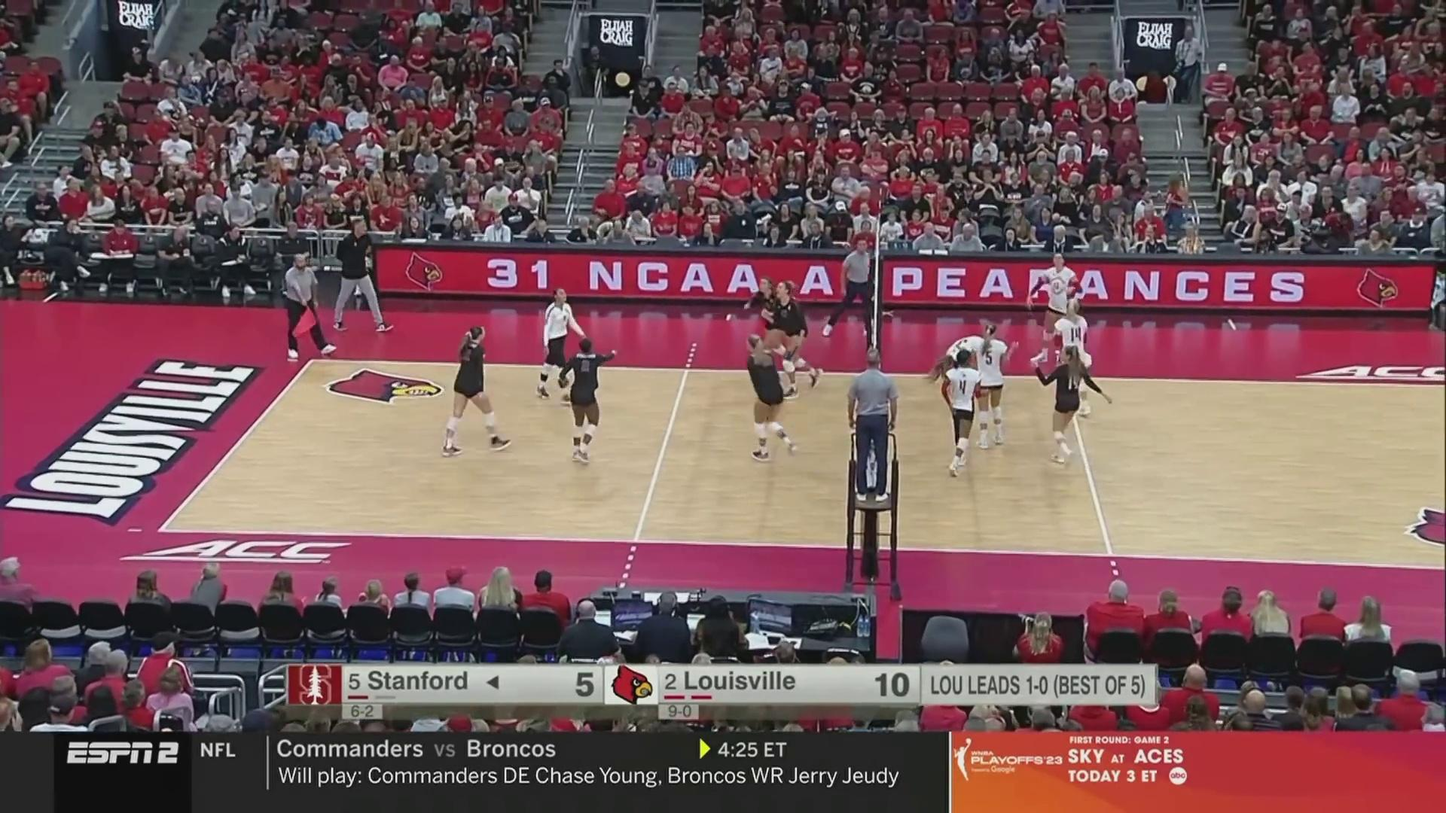player: (1036, 334, 1104, 469), (444, 327, 510, 456), (537, 285, 599, 410), (562, 331, 617, 464), (748, 325, 796, 463), (934, 336, 1005, 427), (1051, 296, 1102, 419), (1030, 249, 1082, 367), (937, 351, 984, 478), (739, 277, 794, 383), (771, 280, 818, 392), (976, 325, 1015, 448)
refree: (847, 350, 897, 500), (819, 233, 877, 342), (282, 256, 339, 363)
